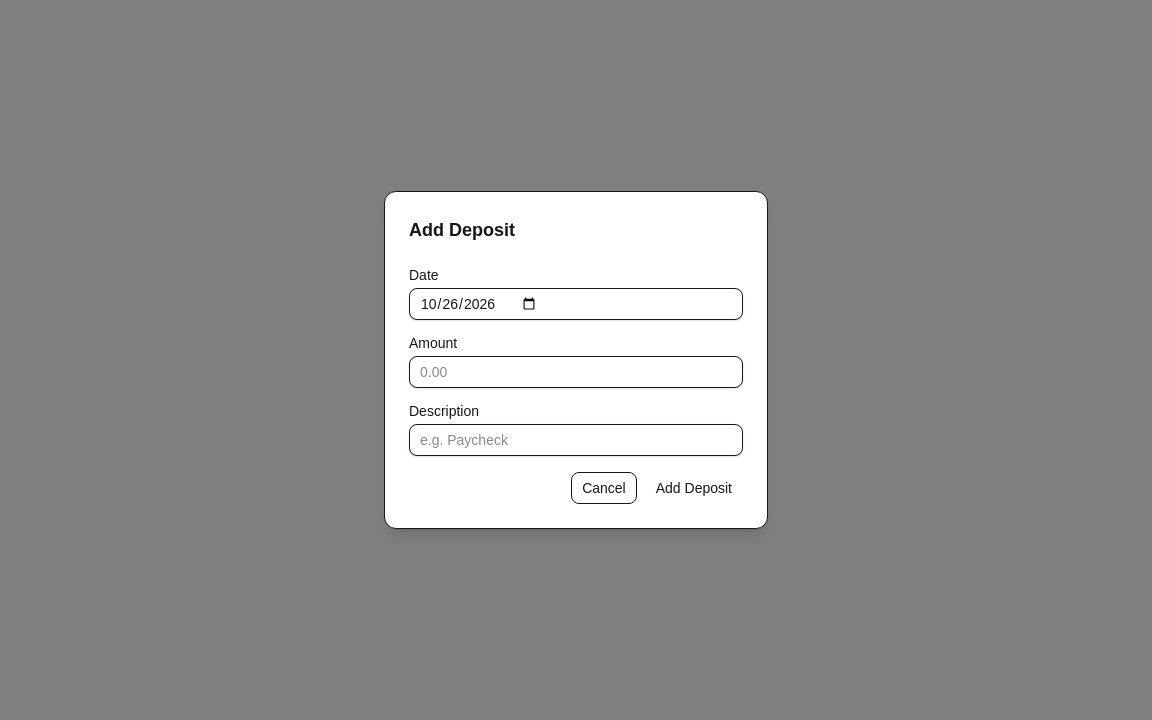
Test: AddDepositDialog › Criterion 4: Validation — amount positive, description non-empty › shows amount invalid error when amount is negative
Type "-10" into the number field labelled "Amount".
click(576, 372); type("-10")  # box x1=409 y1=356 x2=743 y2=388
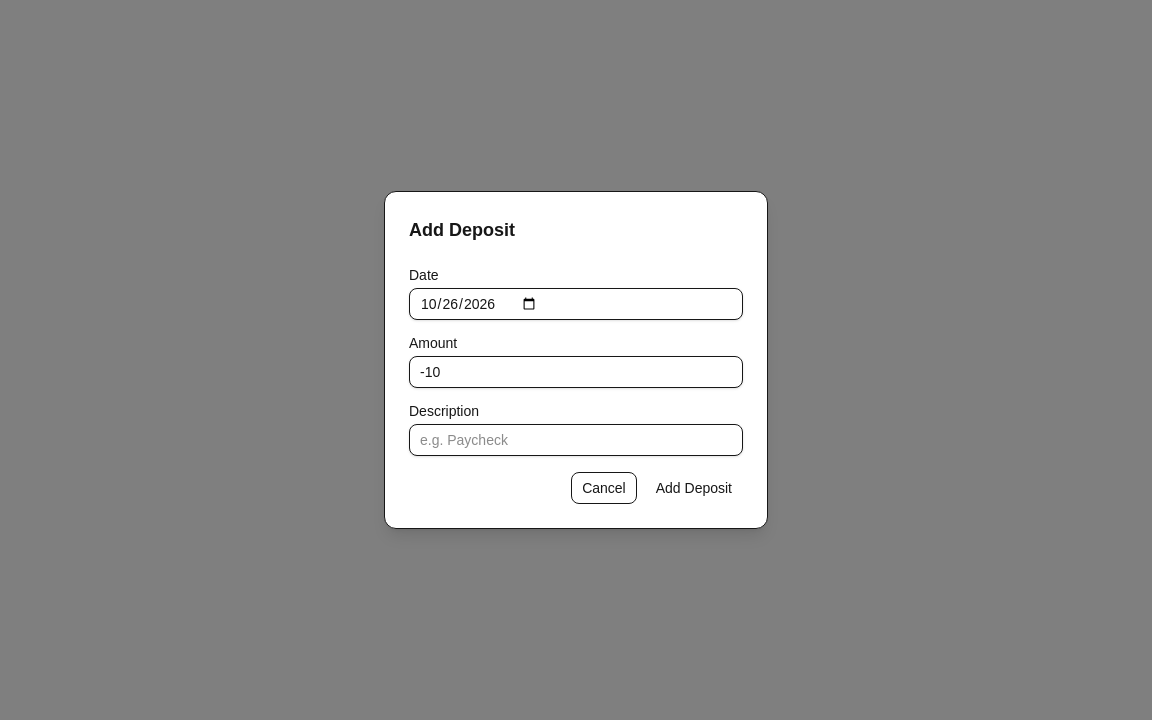
Type "Test" into the field labelled "Description".
click(576, 440); type("Test")  # box x1=409 y1=424 x2=743 y2=456
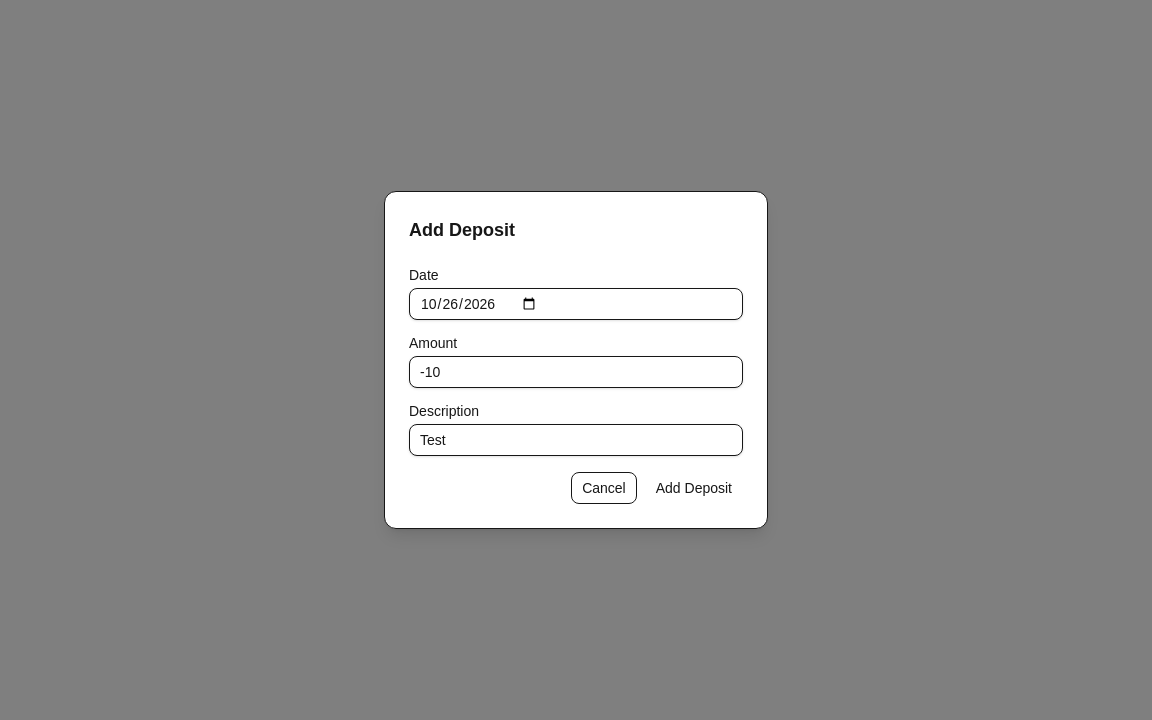
Submit the form, box x1=409 y1=260 x2=743 y2=504
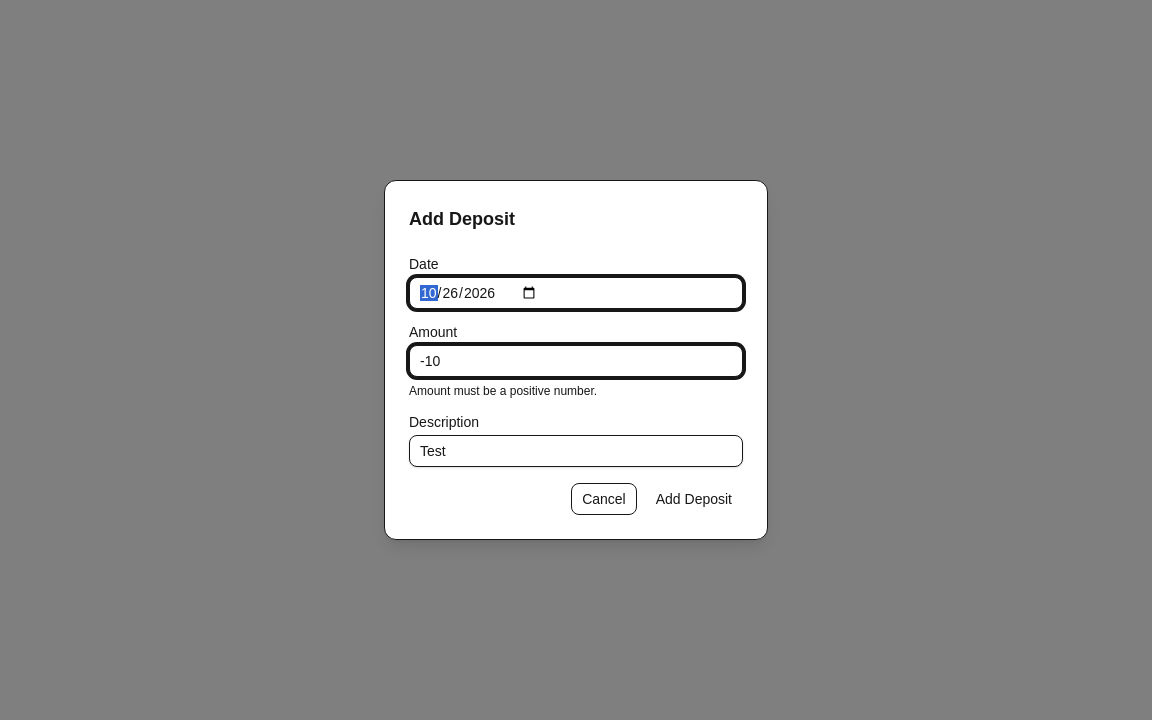
Expected: the text "Amount must be a positive number." is shown, x1=409 y1=384 x2=597 y2=398
